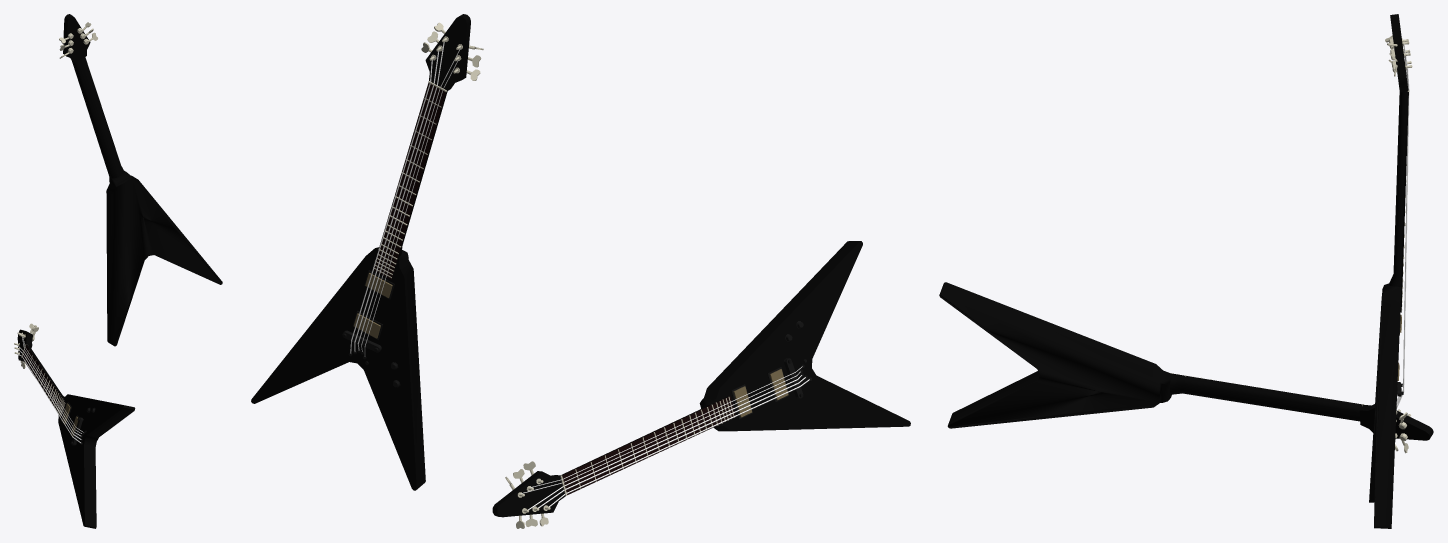
File: guitar.glb
The picture shows the model from 3 angles, left to right: view 1: azimuth 30°, elevation 25°; view 2: azimuth 150°, elevation 25°; view 3: azimuth 270°, elevation 25°; orthographic projection. The views are drawn at different scales.
Parts seen in each view (by area): view 1: guitarBack, guitarHand; view 2: guitarBack, guitarHand; view 3: guitarHand, guitarBack.
Boxes of the visible parts, x1,y1,x2,y2 form: guitarBack: [59, 14, 222, 346]; guitarHand: [14, 323, 135, 528]; guitarBack: [251, 14, 483, 490]; guitarHand: [492, 241, 910, 528]; guitarHand: [939, 282, 1433, 453]; guitarBack: [1369, 14, 1412, 528].
Size of the model in its own units: 1.18 by 1.41 by 1.25.
